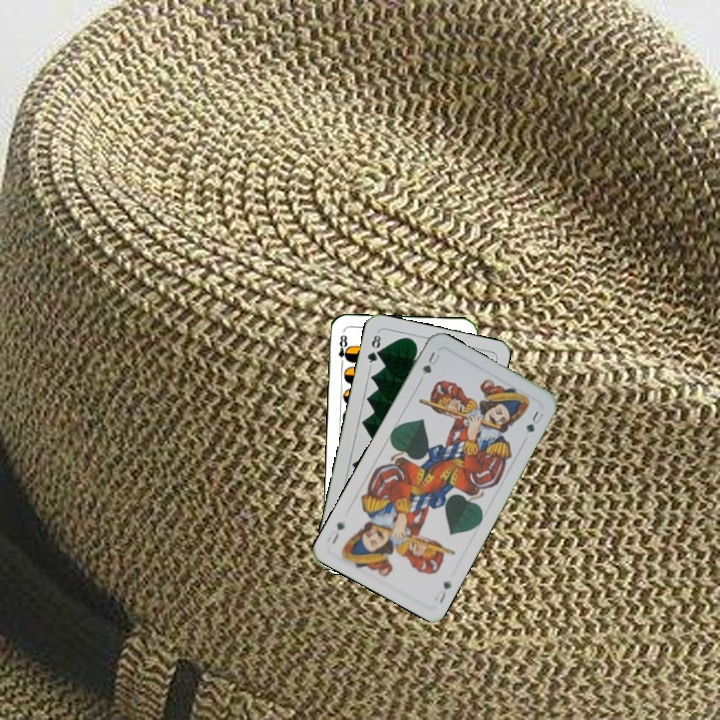E8: (335, 329, 351, 369)
G8: (363, 329, 383, 369)
GU: (418, 348, 443, 377), (430, 577, 454, 607)
